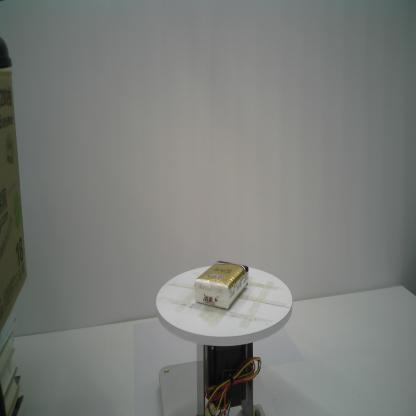Tissue: (194, 260, 249, 310)
